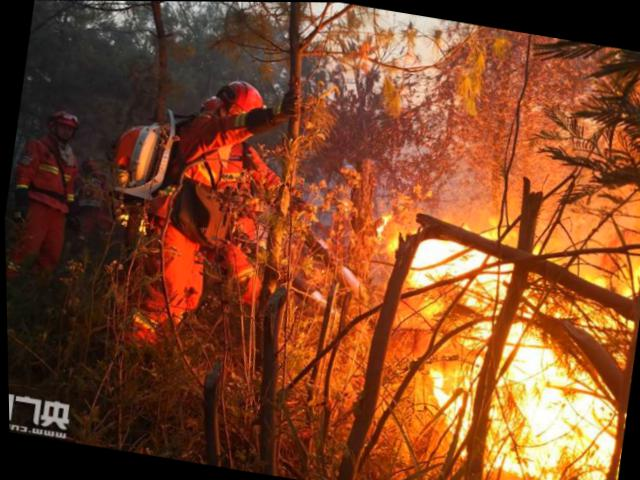fire: (354, 200, 639, 479)
